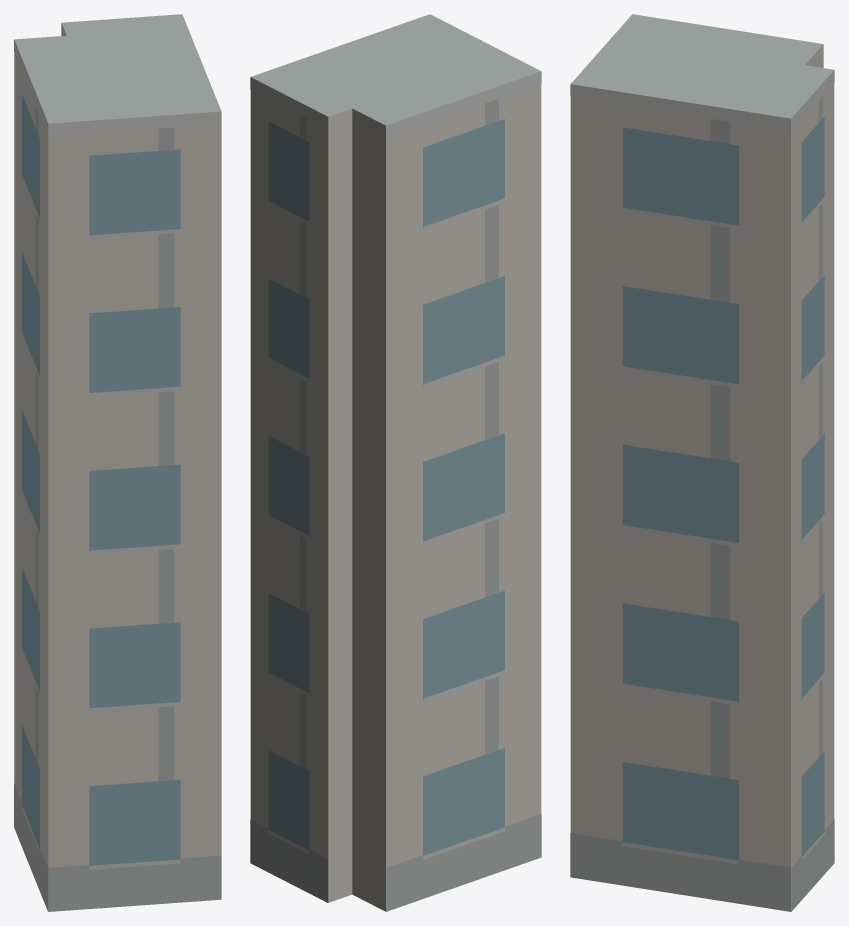
File: survey-upis-32947969.glb
The picture shows the model from 3 angles, left to right: view 1: azimuth 30°, elevation 25°; view 2: azimuth 150°, elevation 25°; view 3: azimuth 270°, elevation 25°; orthographic projection.
Parts seen in each view (by area): view 1: survey-upis-32947969.tmp; view 2: survey-upis-32947969.tmp; view 3: survey-upis-32947969.tmp.
Part boxes in pixels (x1,y1,x2,y2): survey-upis-32947969.tmp: (14, 14, 221, 911); survey-upis-32947969.tmp: (250, 14, 541, 911); survey-upis-32947969.tmp: (570, 14, 834, 911).
Bounding box in the file's own units: 4.32 × 15.25 × 4.61.
